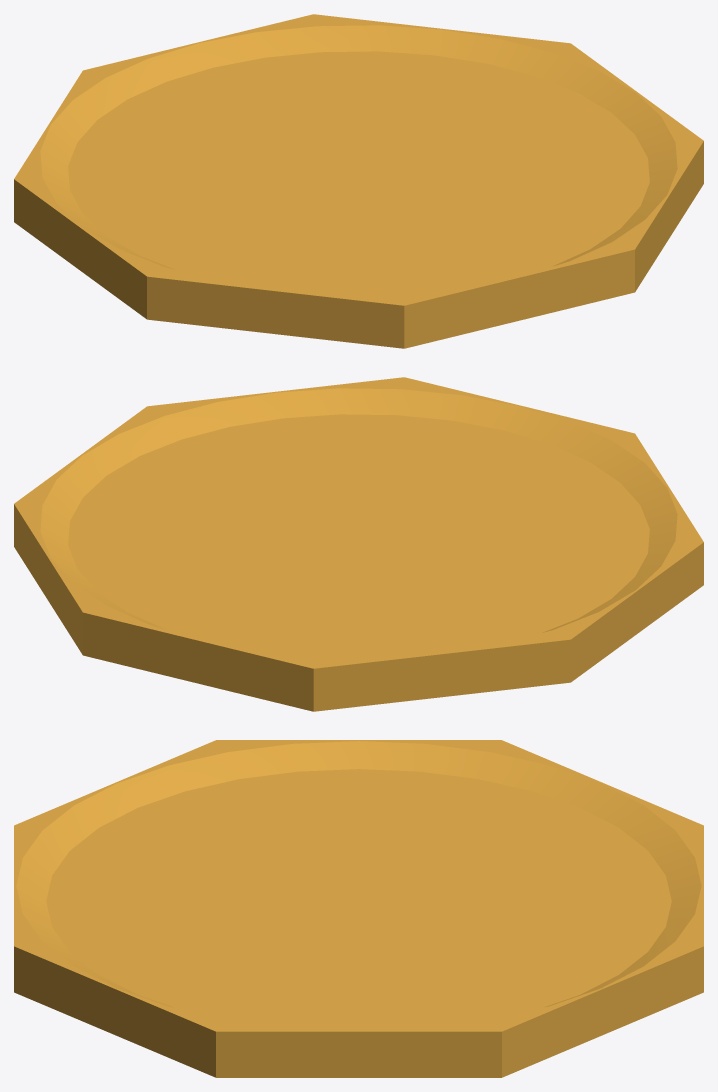
File: Nabeshiki.fbx
The picture shows the model from 3 angles, top to bottom: view 1: azimuth 30°, elevation 25°; view 2: azimuth 150°, elevation 25°; view 3: azimuth 270°, elevation 25°; orthographic projection. The views are drawn at different scales.
Parts seen in each view (by area): view 1: Nabeshiki; view 2: Nabeshiki; view 3: Nabeshiki.
Boxes of the visible parts, box(x1,y1,x2,y2) form: Nabeshiki: box(14, 14, 703, 348); Nabeshiki: box(14, 377, 703, 711); Nabeshiki: box(14, 740, 703, 1077).
Bounding box in the file's own units: 40.65 × 3 × 40.65.
